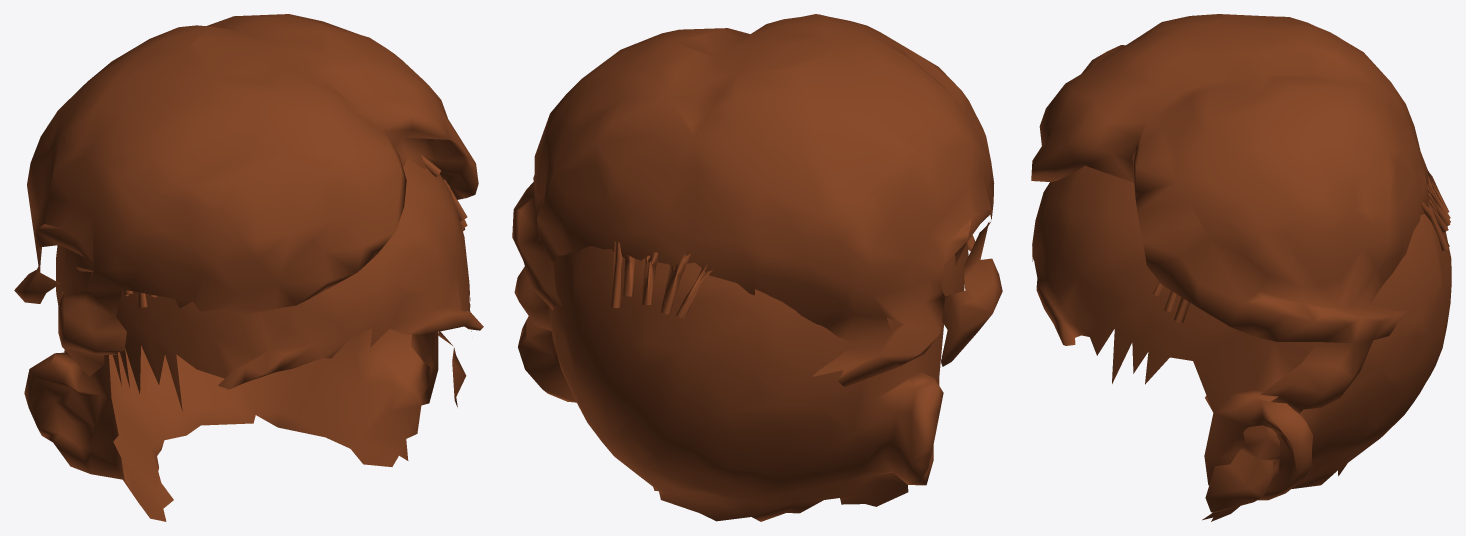
Rendered from braid.glb.
The picture shows the model from 3 angles, left to right: view 1: azimuth 30°, elevation 25°; view 2: azimuth 150°, elevation 25°; view 3: azimuth 270°, elevation 25°; orthographic projection. The views are drawn at different scales.
Parts seen in each view (by area): view 1: Hair, HairScalp, HairPulledRootStrands; view 2: Hair, HairScalp, HairPulledRootStrands; view 3: Hair, HairScalp, HairPulledRootStrands.
Part boxes in pixels (x1,y1,x2,y2): Hair: (14,14,478,407); HairScalp: (24,158,483,521); HairPulledRootStrands: (123,154,467,307); Hair: (512,14,1002,386); HairScalp: (518,235,975,521); HairPulledRootStrands: (611,241,968,318); Hair: (1031,14,1429,512); HairScalp: (1032,165,1451,521); HairPulledRootStrands: (1153,170,1450,322).
Size of the model in its own units: 0.4872 by 0.4897 by 0.4434.
